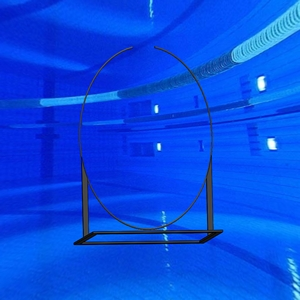circle: (73, 44, 226, 246)
